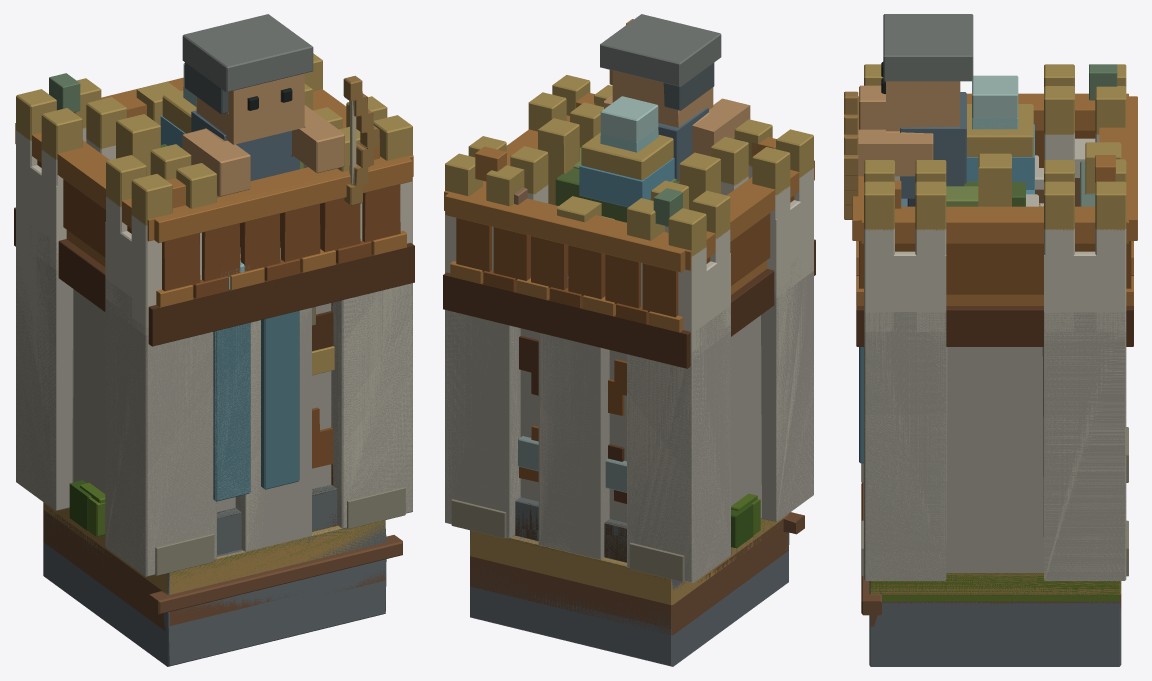
The model's file is library.glb.
3 renders of one model, left to right at view 1: azimuth 30°, elevation 25°; view 2: azimuth 150°, elevation 25°; view 3: azimuth 270°, elevation 25°, orthographic. The views are drawn at different scales.
Parts seen in each view (by area): view 1: base (×25), aim-bowman; view 2: base (×28), aim-bowman; view 3: base (×21), aim-bowman.
Boxes of the visible parts, <box> form: base (×25): <box>14,53,414,666</box>; aim-bowman: <box>182,14,379,205</box>; base (×28): <box>443,75,815,666</box>; aim-bowman: <box>600,14,750,181</box>; base (×21): <box>852,64,1137,666</box>; aim-bowman: <box>844,14,973,219</box>.
Size of the model in its own units: 1.2 by 2.49 by 1.14.
